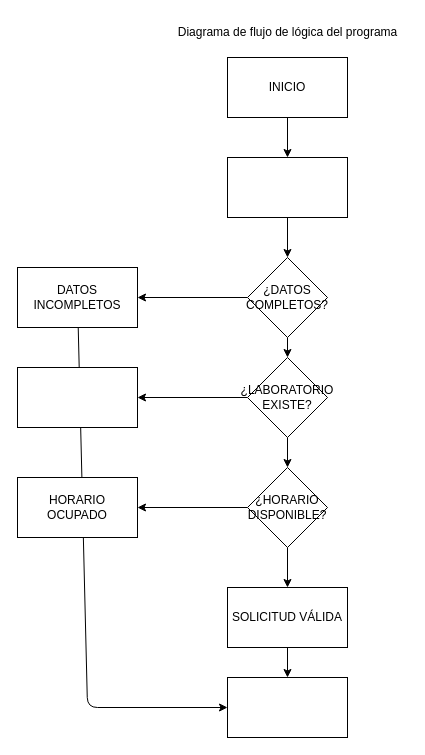
This 425x755 diagram has some shape labels left out. Here are the shapes that lost their labels. From the top down, the centre of each, then its label:
the point at 287,187: RECIBIR SOLICITUD DE LABPRATORIO
the point at 77,397: LABORATORIO INVÁLIDO
the point at 287,707: FIN
